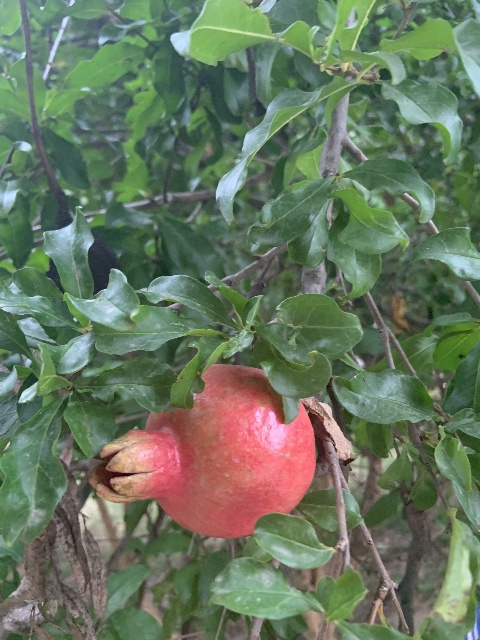ripe: (92, 363, 316, 539)
